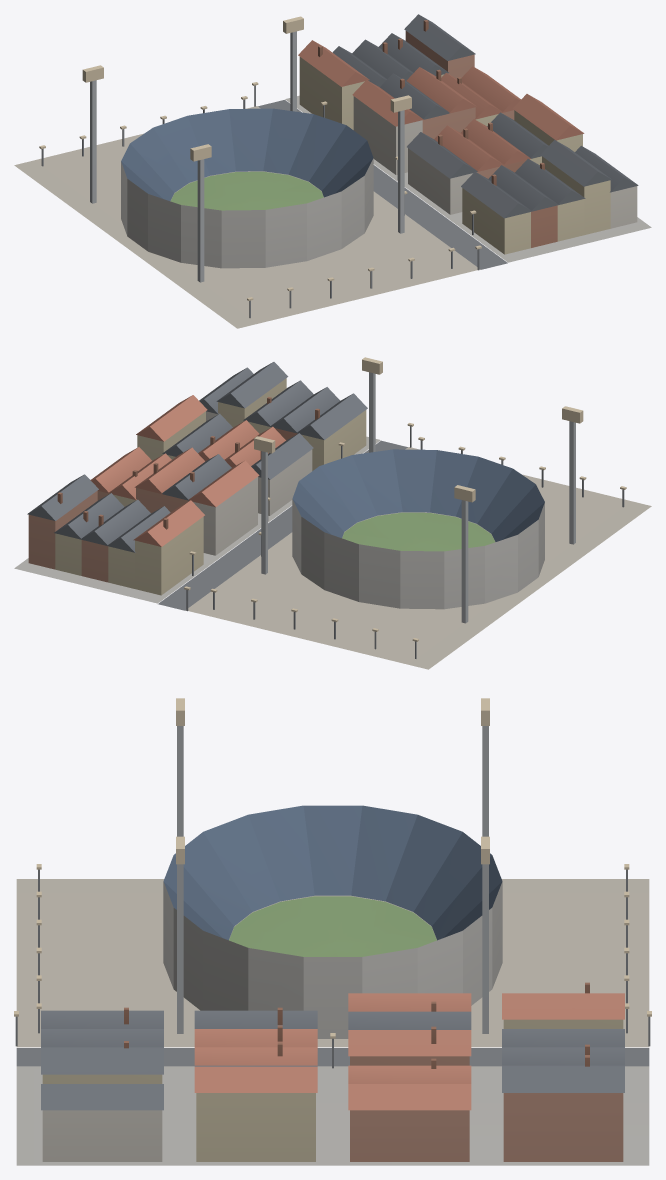
Rendered from district_stadium_row.glb.
The picture shows the model from 3 angles, top to bottom: view 1: azimuth 30°, elevation 25°; view 2: azimuth 150°, elevation 25°; view 3: azimuth 270°, elevation 25°; orthographic projection. The views are drawn at different scales.
Parts seen in each view (by area): view 1: district_stadium_row; view 2: district_stadium_row; view 3: district_stadium_row.
Boxes of the visible parts, box(x1,y1,x2,y2) form: district_stadium_row: box(14, 14, 651, 328); district_stadium_row: box(14, 357, 651, 669); district_stadium_row: box(14, 698, 651, 1165).
Size of the model in its own units: 120 by 37.15 by 113.
